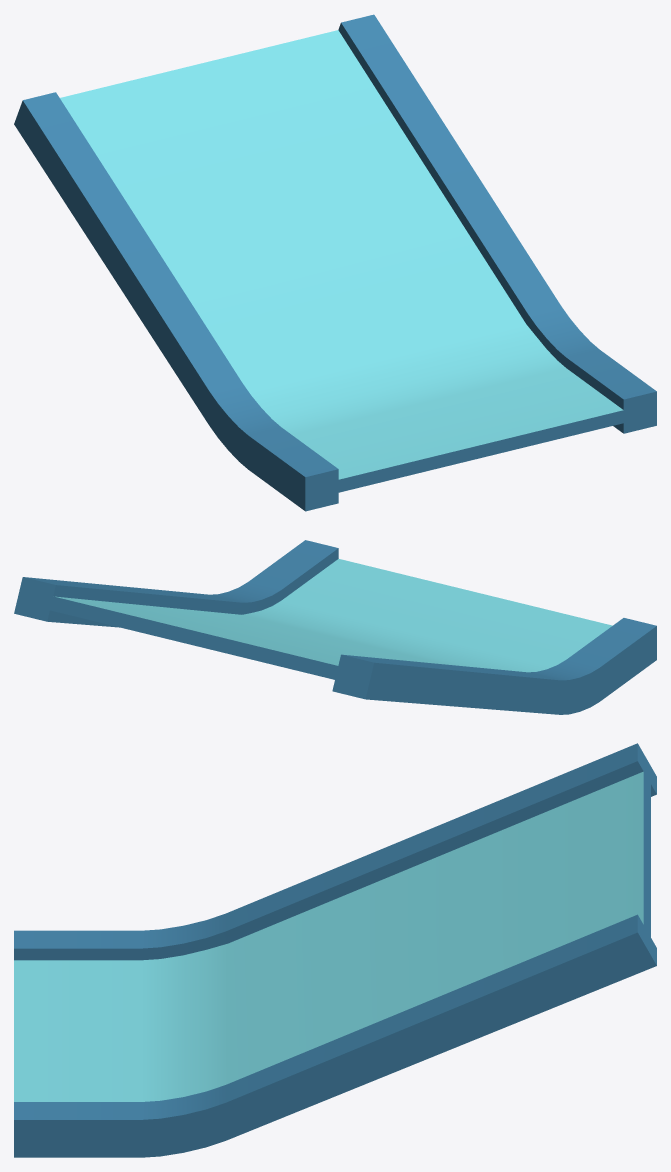
The model's file is Ground4_Blue.fbx.
3 views of the same model, one above another, from view 1: azimuth 30°, elevation 25°; view 2: azimuth 150°, elevation 25°; view 3: azimuth 270°, elevation 25° (orthographic). The views are drawn at different scales.
Parts seen in each view (by area): view 1: Cube.023; view 2: Cube.023; view 3: Cube.023.
Part boxes in pixels (left/top/right/bottom): Cube.023: left=14, top=14, right=656, bottom=511; Cube.023: left=14, top=540, right=656, bottom=714; Cube.023: left=14, top=743, right=656, bottom=1157.
Bounding box in the file's own units: 6.28 × 9.01 × 3.48.
